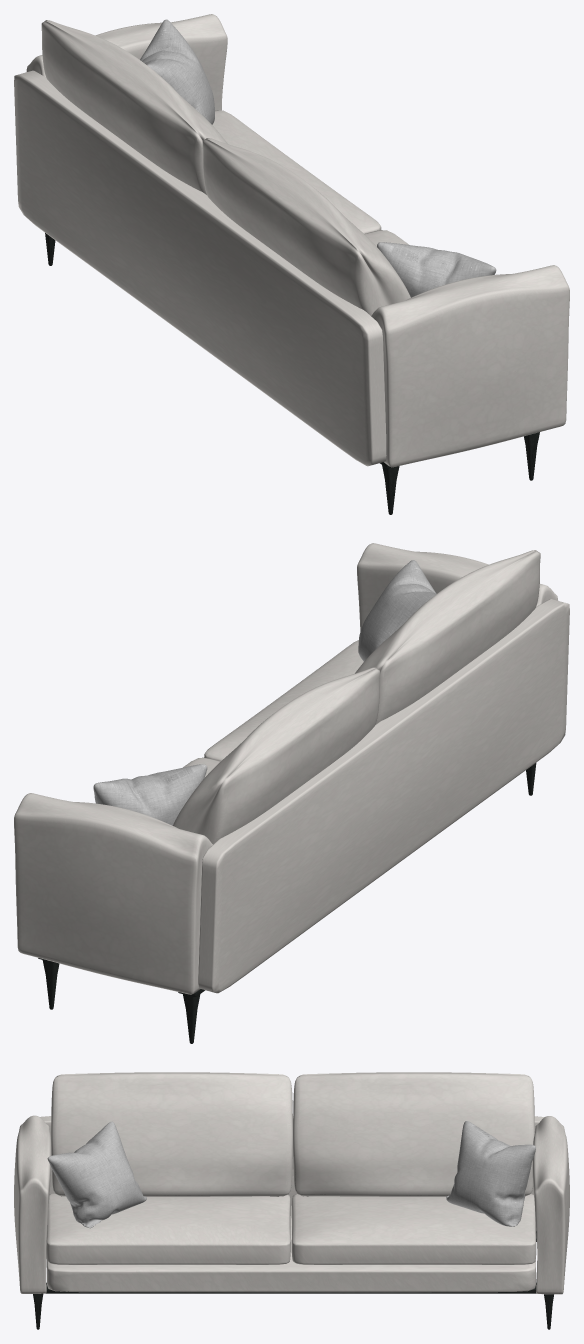
3 renders of one model, top to bottom at view 1: azimuth 30°, elevation 25°; view 2: azimuth 150°, elevation 25°; view 3: azimuth 270°, elevation 25°, orthographic. The views are drawn at different scales.
Visible parts, largest first — view 1: Sofa_2, Cusions_1, Holder_0; view 2: Sofa_2, Cusions_1, Holder_0; view 3: Sofa_2, Cusions_1, Holder_0.
Part boxes in pixels (<box>): Sofa_2: <box>14,14,569,467</box>; Cusions_1: <box>140,19,496,297</box>; Holder_0: <box>45,233,539,514</box>; Sofa_2: <box>14,543,569,994</box>; Cusions_1: <box>93,560,436,825</box>; Holder_0: <box>38,763,536,1043</box>; Sofa_2: <box>14,1072,569,1294</box>; Cusions_1: <box>47,1121,535,1228</box>; Holder_0: <box>33,1231,553,1329</box>.
Size of the model in its own units: 1.61 by 2.05 by 5.06.
Materials: 3 (3 with a texture image).
